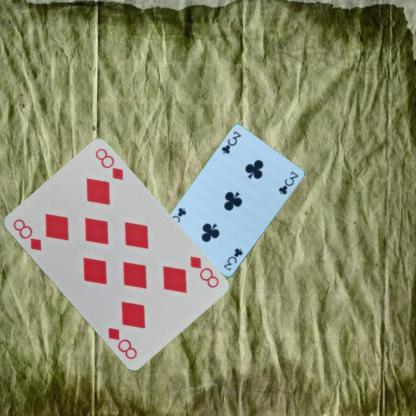3c: (219, 129, 243, 155), (221, 246, 244, 272)
8d: (186, 252, 220, 289), (10, 216, 43, 252)
